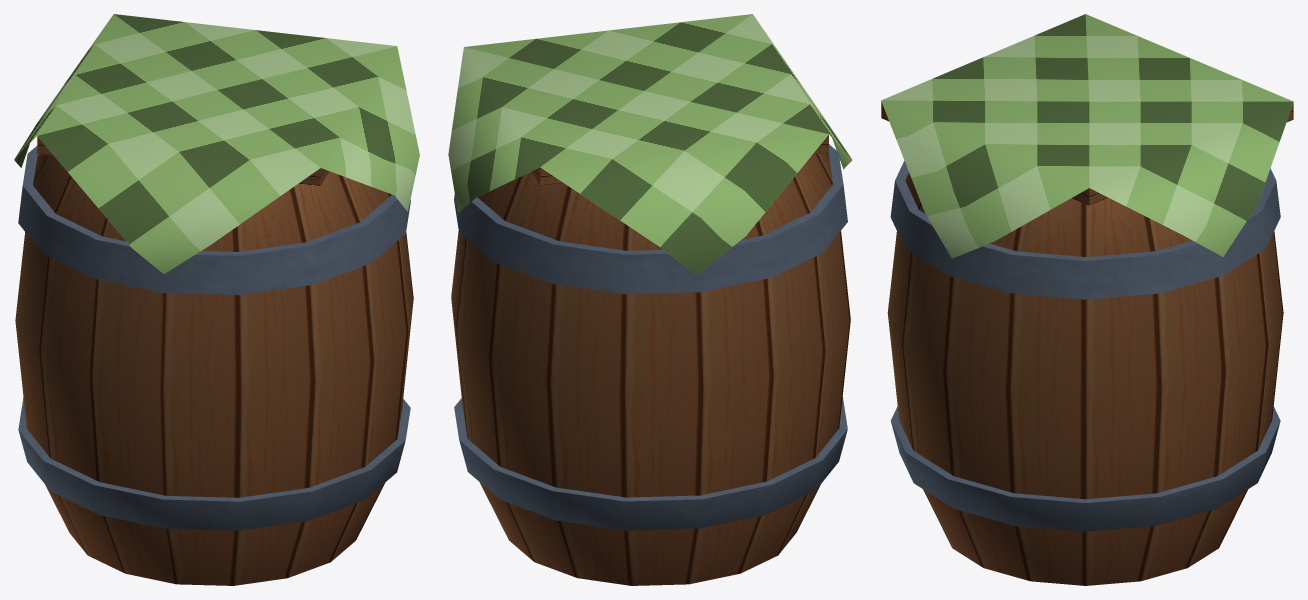
Rendered from Barrel_Small_Art.fbx.
The picture shows the model from 3 angles, left to right: view 1: azimuth 30°, elevation 25°; view 2: azimuth 150°, elevation 25°; view 3: azimuth 270°, elevation 25°; orthographic projection.
Parts seen in each view (by area): view 1: Oktoberfest_Barrel_Small_LOD0; view 2: Oktoberfest_Barrel_Small_LOD0; view 3: Oktoberfest_Barrel_Small_LOD0.
Part boxes in pixels (left/top/right/bottom): Oktoberfest_Barrel_Small_LOD0: left=14, top=14, right=419, bottom=585; Oktoberfest_Barrel_Small_LOD0: left=448, top=14, right=852, bottom=585; Oktoberfest_Barrel_Small_LOD0: left=881, top=14, right=1293, bottom=585.
Size of what is drawn, in the model's own units: 89.59 by 102 by 89.81.
